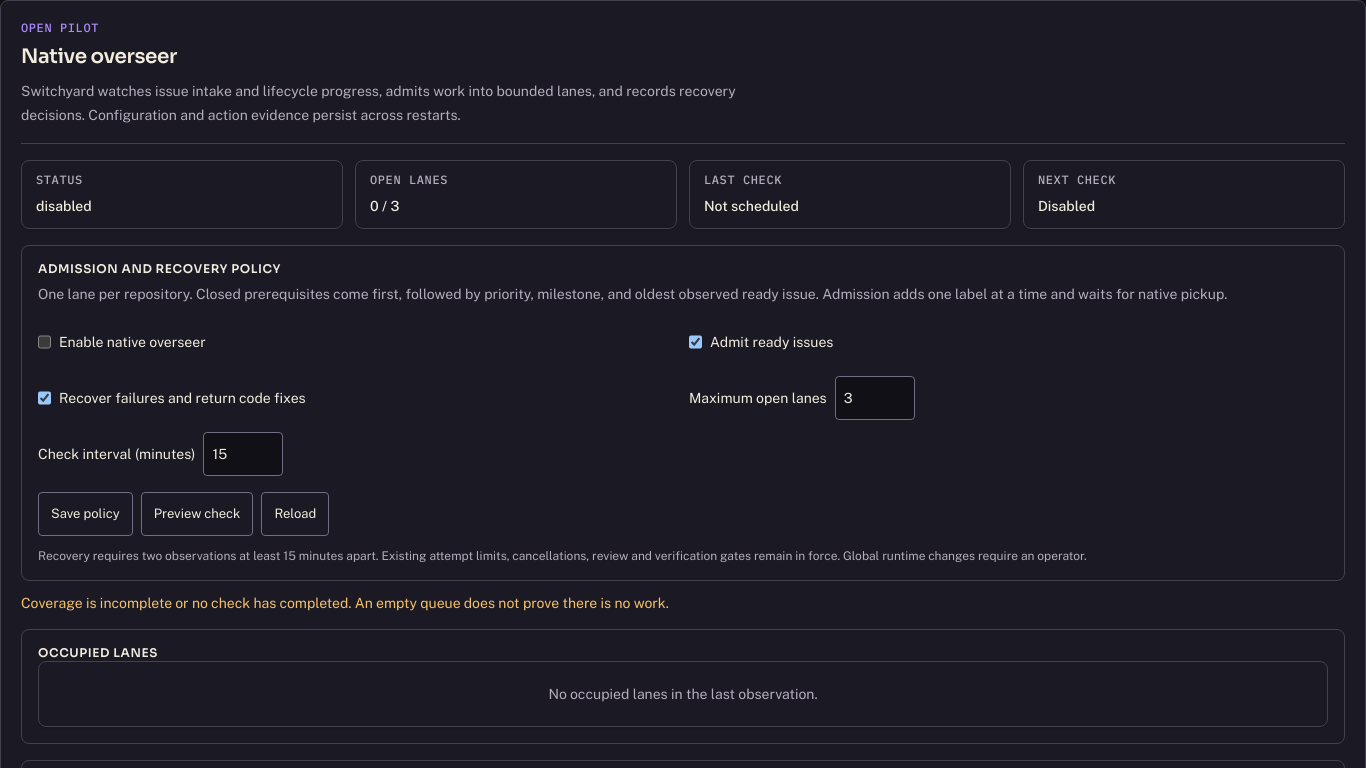
saves with the observed revision and previews through a separate endpoint
Click the button "Save policy": (85, 514) [38, 492, 133, 536]
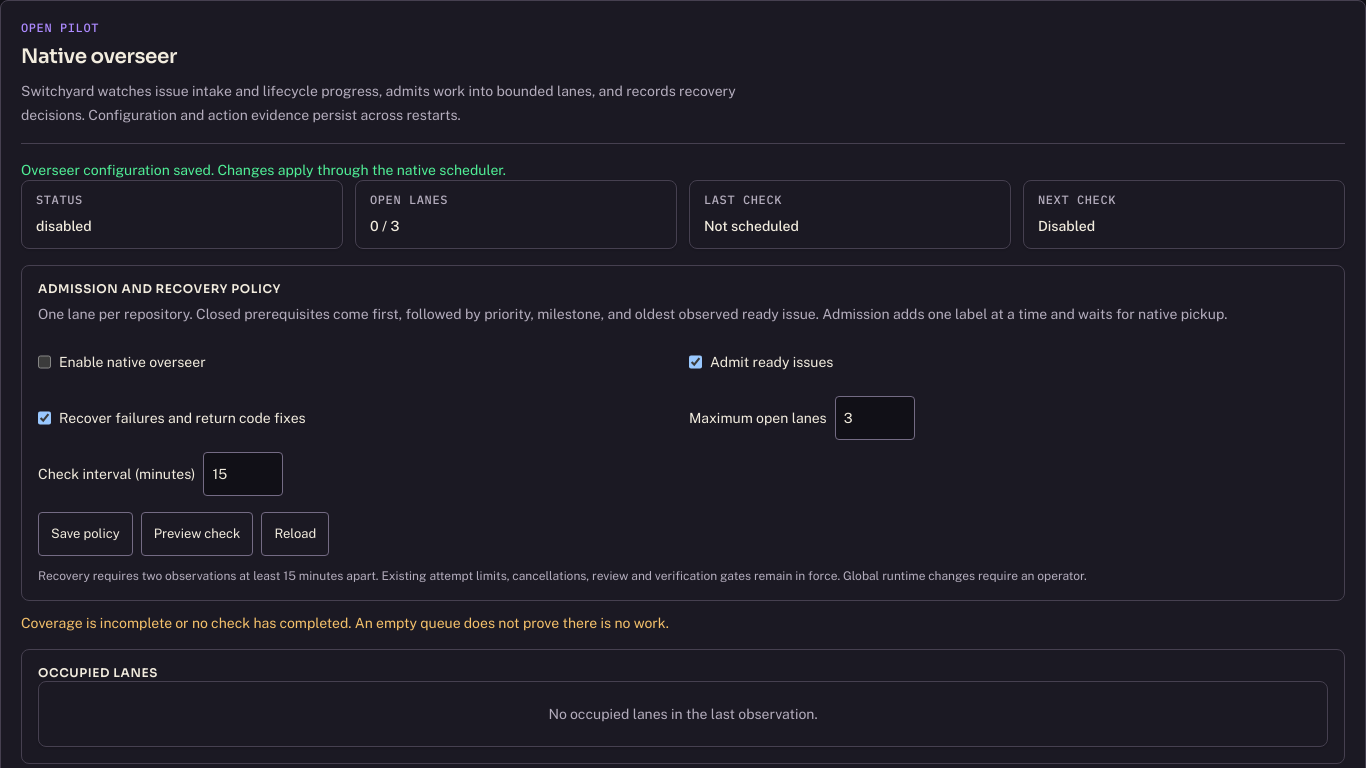
Click the button "Preview check": (197, 534) [141, 512, 253, 556]
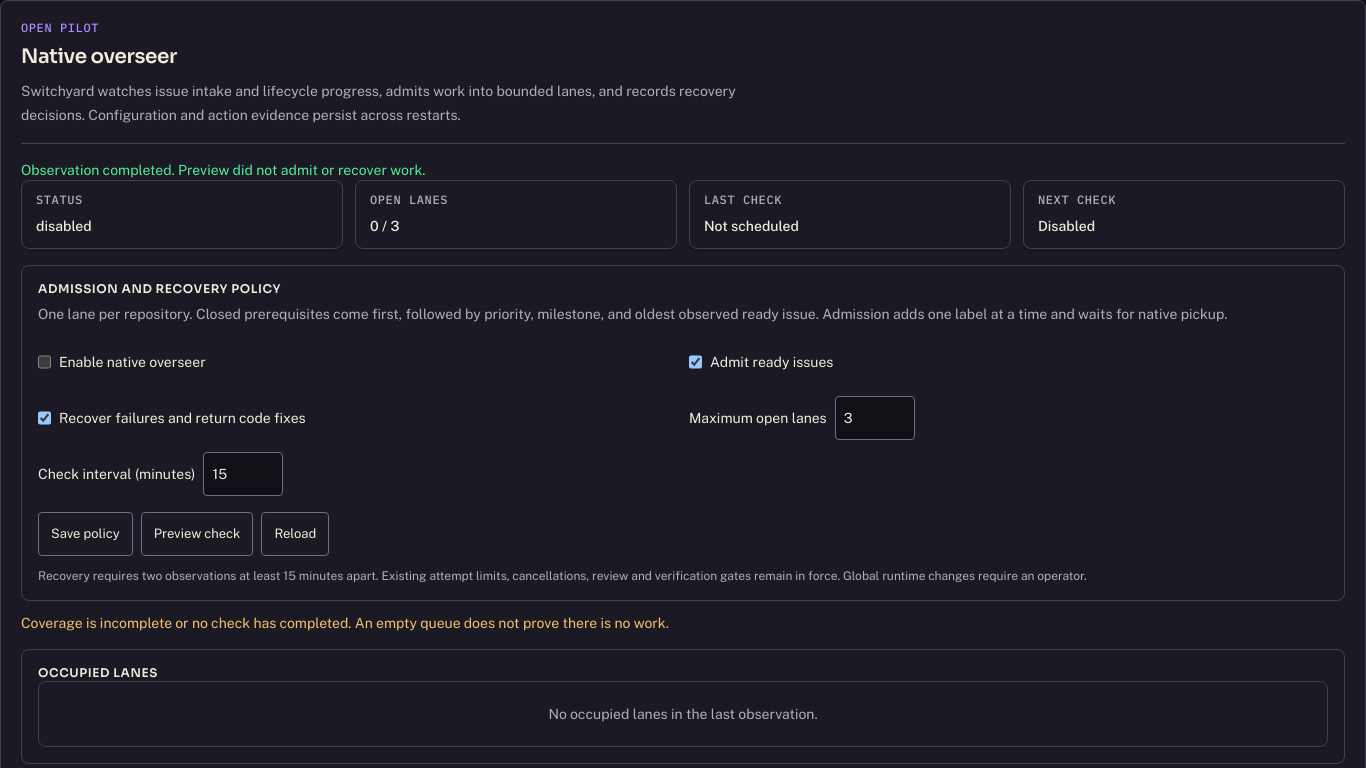
Now the message "Observation completed. Preview did not admit or recover work." is shown, box [21, 162, 425, 178]
